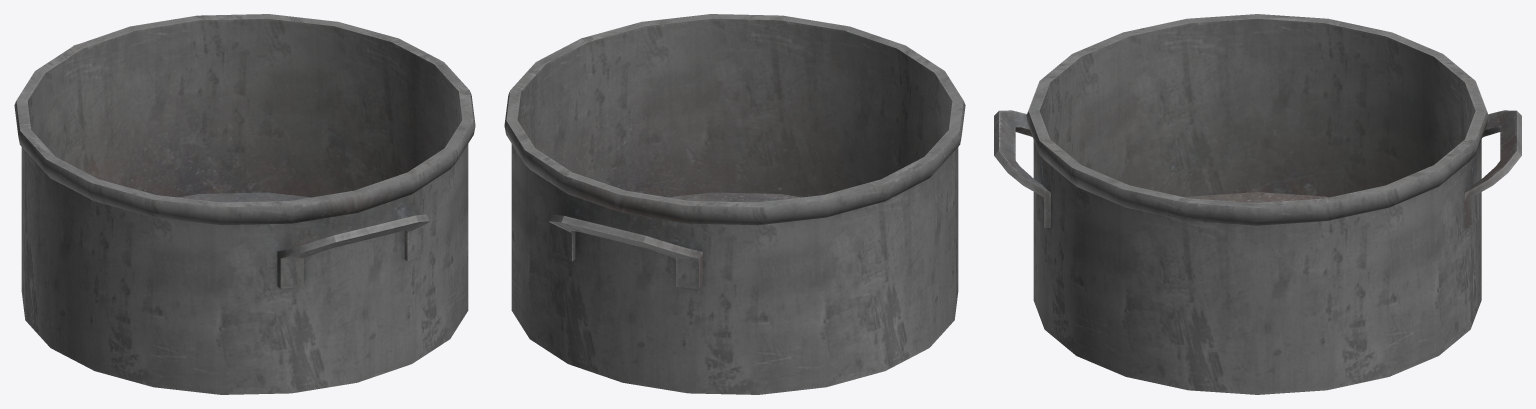
3 renders of one model, left to right at view 1: azimuth 30°, elevation 25°; view 2: azimuth 150°, elevation 25°; view 3: azimuth 270°, elevation 25°, orthographic.
Parts seen in each view (by area): view 1: Cylinder001; view 2: Cylinder001; view 3: Cylinder001.
Boxes of the visible parts, x1,y1,x2,y2 form: Cylinder001: [14, 14, 475, 394]; Cylinder001: [504, 14, 965, 394]; Cylinder001: [994, 14, 1521, 394].
Bounding box in the file's own units: 0.0415 × 0.0188 × 0.0474.
Materials: 1 (1 with a texture image).
